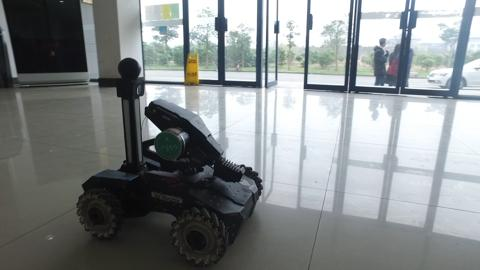chariot: (71, 53, 268, 270)
